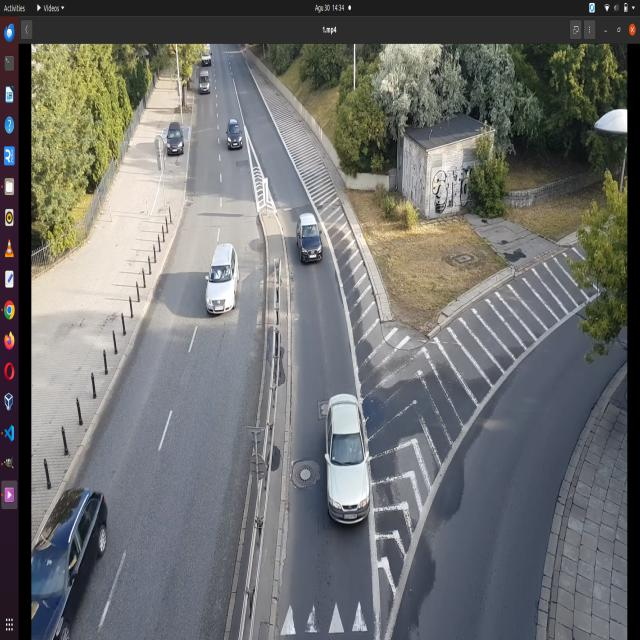person_with_seatbelt: (222, 266, 230, 277), (213, 268, 221, 278), (312, 225, 316, 234)
